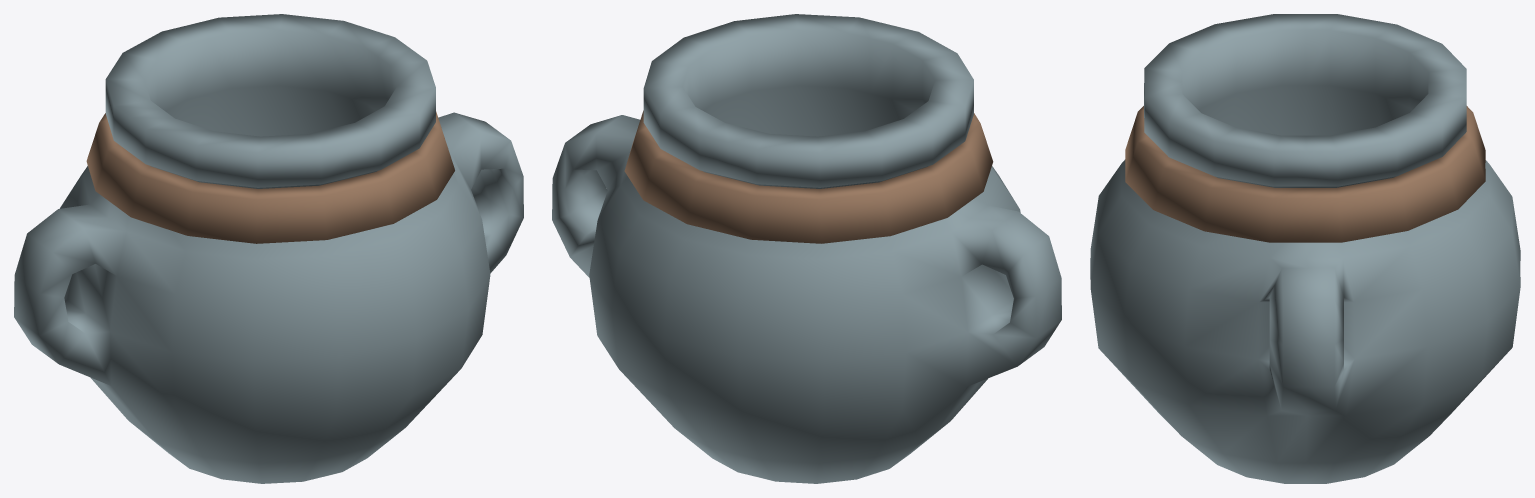
Rendered from Caldero.fbx.
3 views of the same model, side by side, from view 1: azimuth 30°, elevation 25°; view 2: azimuth 150°, elevation 25°; view 3: azimuth 270°, elevation 25° (orthographic).
Parts seen in each view (by area): view 1: Cylinder; view 2: Cylinder; view 3: Cylinder.
Boxes of the visible parts, left/top/right/bottom form: Cylinder: left=14, top=14, right=523, bottom=483; Cylinder: left=552, top=14, right=1061, bottom=483; Cylinder: left=1090, top=14, right=1520, bottom=483.
Bounding box in the file's own units: 256 × 179 × 196.
Materials: 1 (1 with a texture image).
